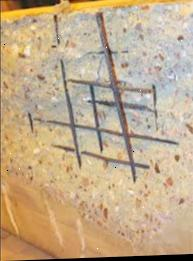exposed_rebar: (33, 12, 178, 182), (54, 14, 59, 45), (28, 111, 32, 133)
spalling: (0, 0, 193, 250)
